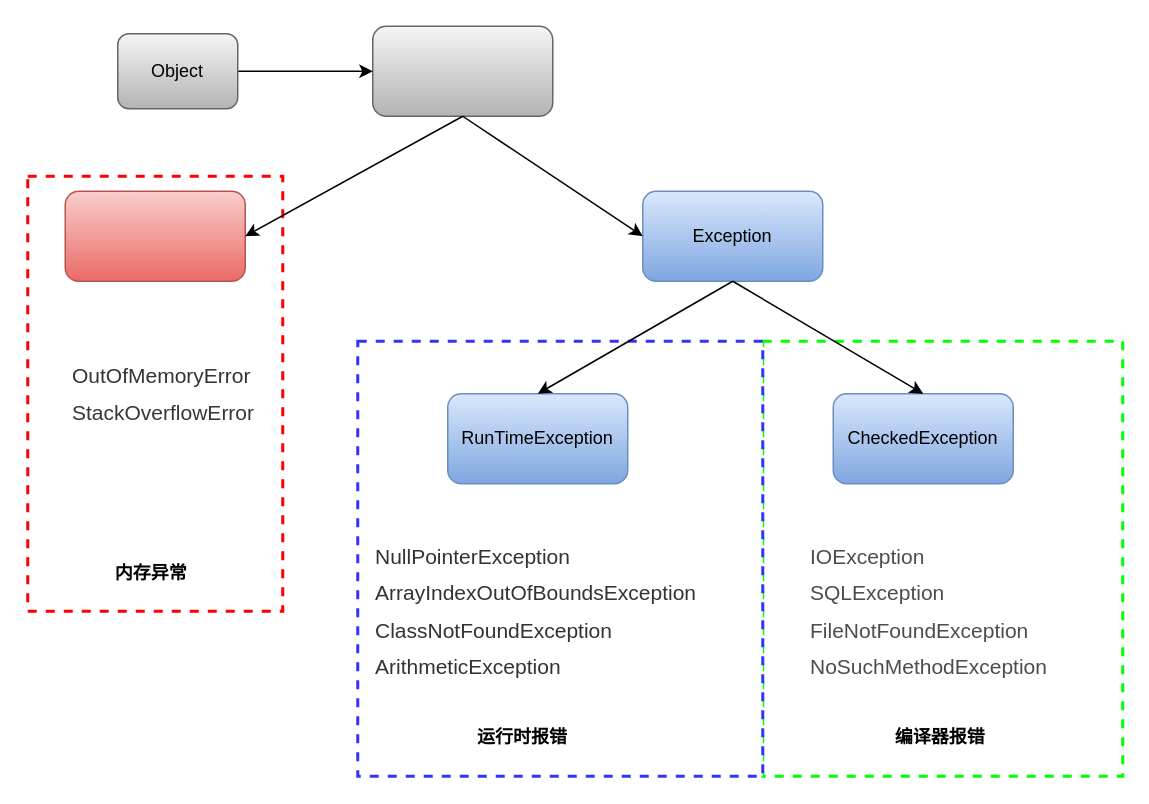
This 1149x804 diagram has some shape labels left out. The shapes that lost their labels are listed below. From the top down, each one's centre as x and y in pixels, then its label:
At (462,70): "Throwable".
At (154,235): "Error".
